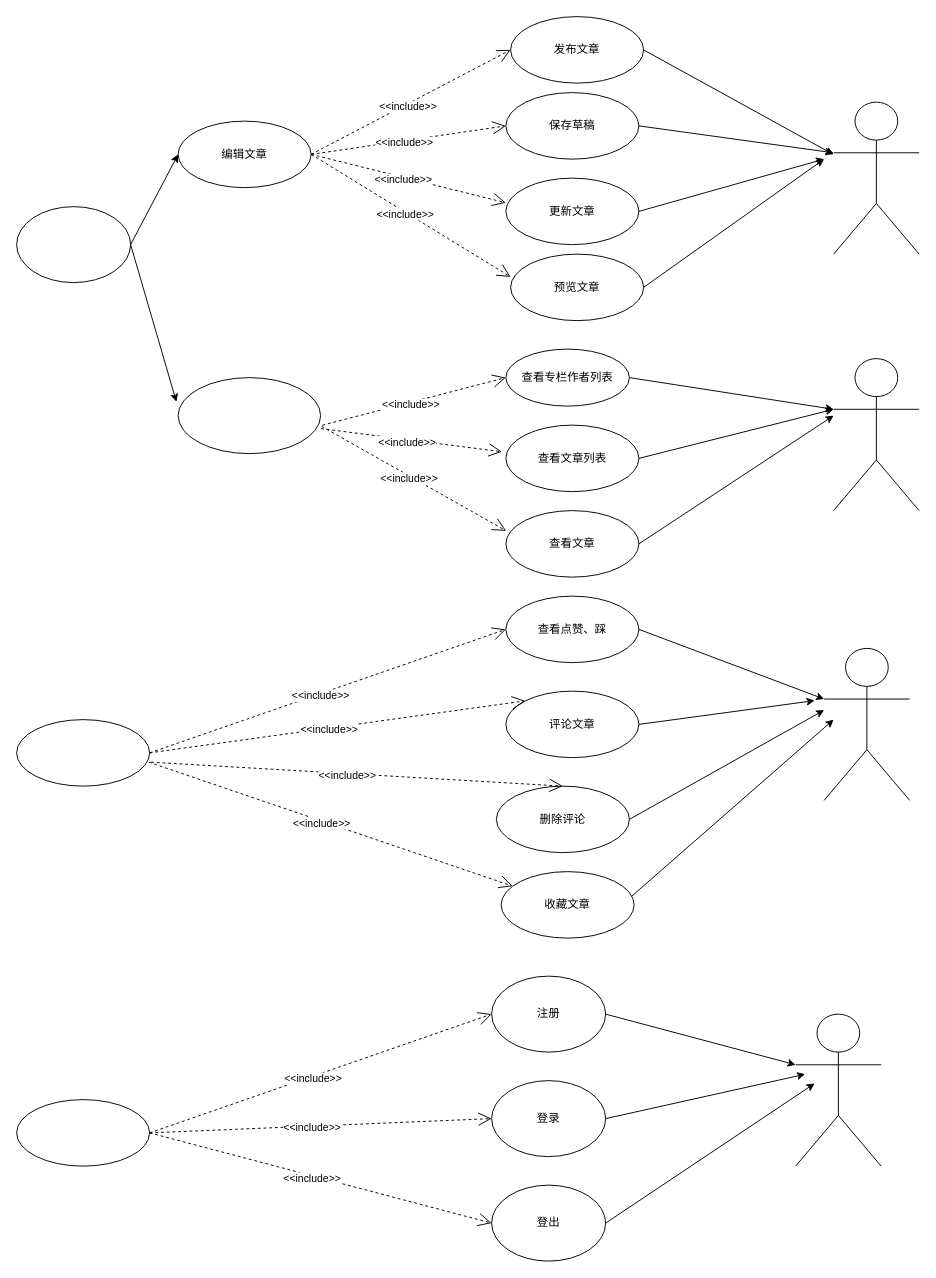
Image size: 936x1278. Some labels were removed from this diagram. Here are the shapes that lost their labels. From the top down, the box of each, then its label:
(833, 101, 919, 254): 成员1
(16, 206, 131, 283): 文章管理
(177, 377, 321, 454): 浏览文章
(833, 358, 919, 511): 成员2
(823, 647, 910, 800): 成员3
(16, 719, 150, 786): 评论管理
(795, 1013, 881, 1166): 成员4
(16, 1099, 150, 1166): 用户管理
